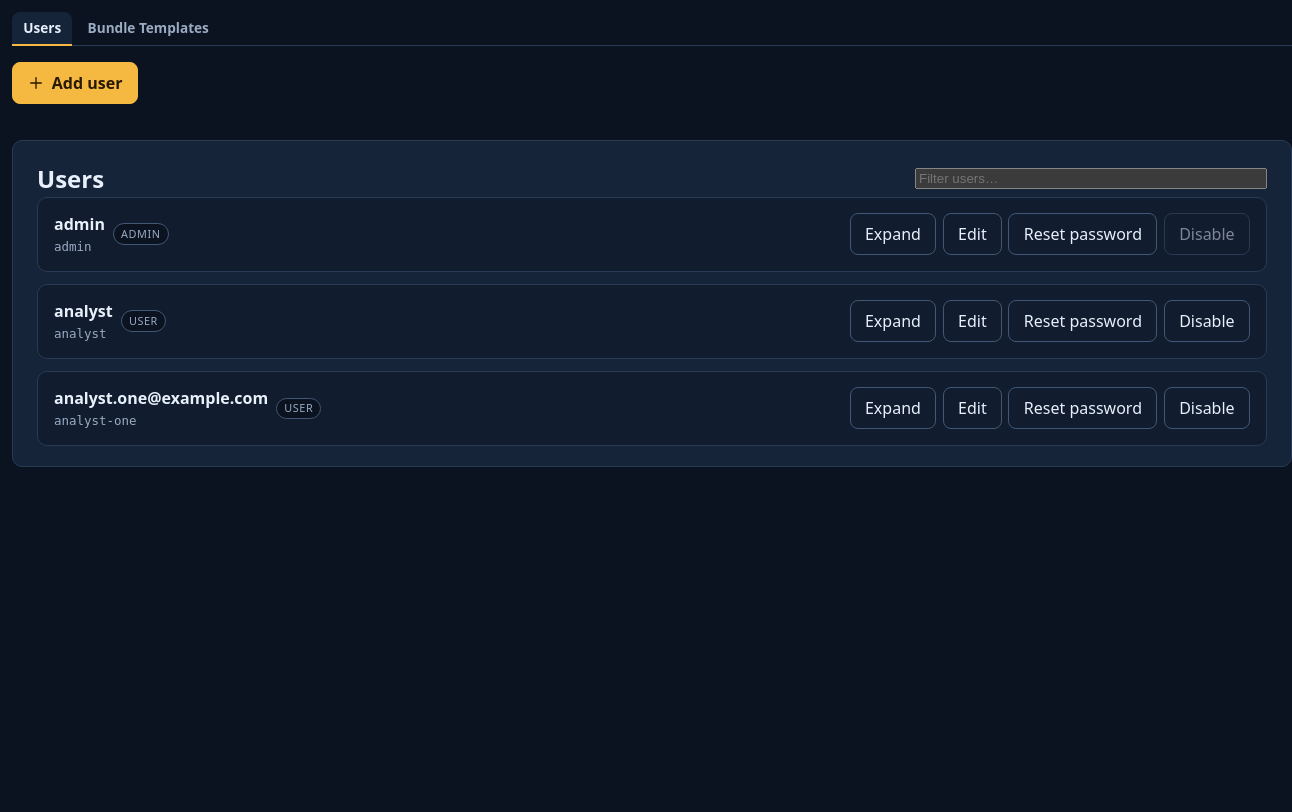
Test: UserManagement credential copy › collapses user cards by default and expands on demand (issue_025)
expect the text "add server" is not shown: met
Expanding mounts the servers panel (which triggers the servers fetch).
Click the 2nd button "Expand": point(893, 321) [850, 300, 936, 342]
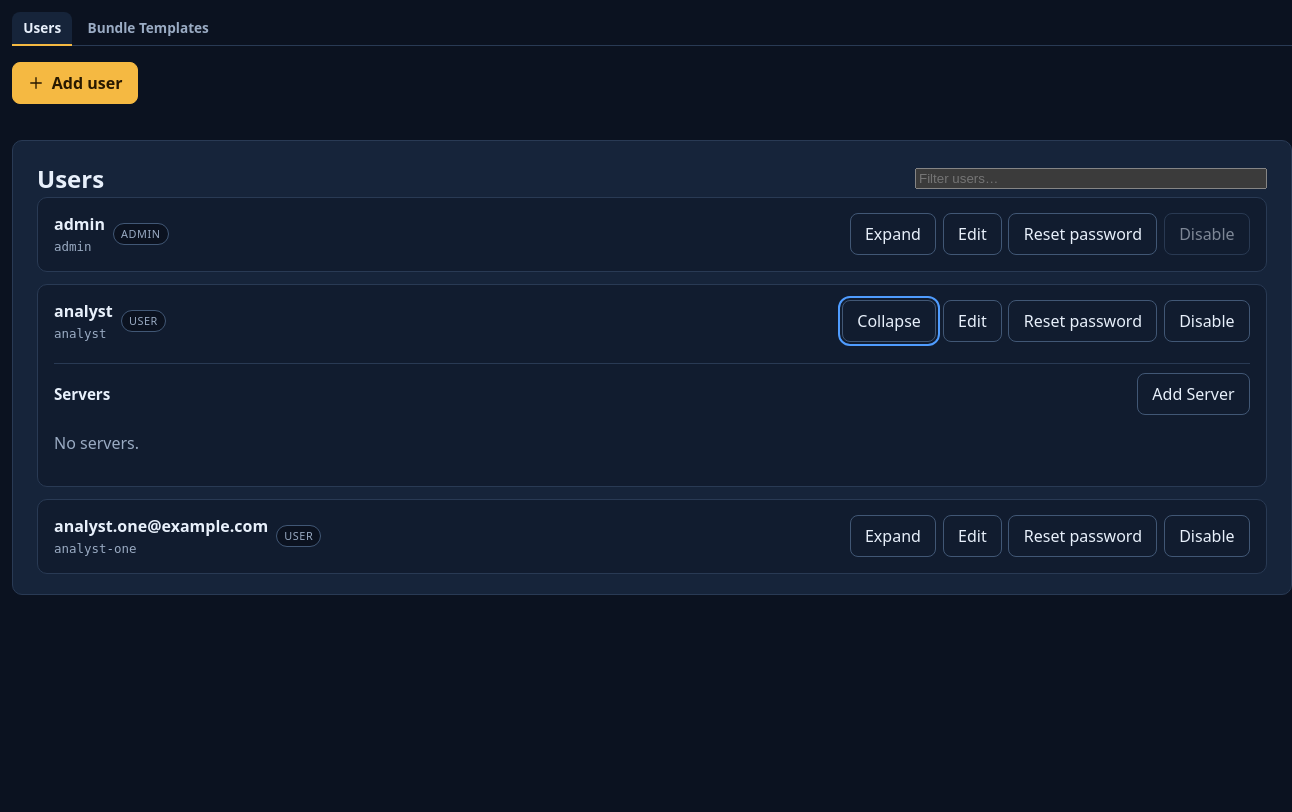
expect the 1st text "analyst" is shown: met, box [54, 299, 113, 323]
expect the button "Collapse" is shown: met, box [842, 300, 936, 342]
